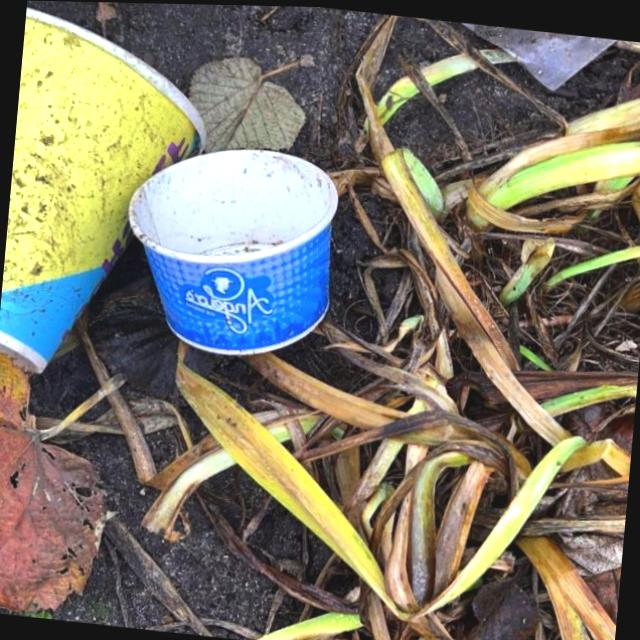Cup: (0, 4, 221, 394)
Paper: (112, 131, 346, 369)
